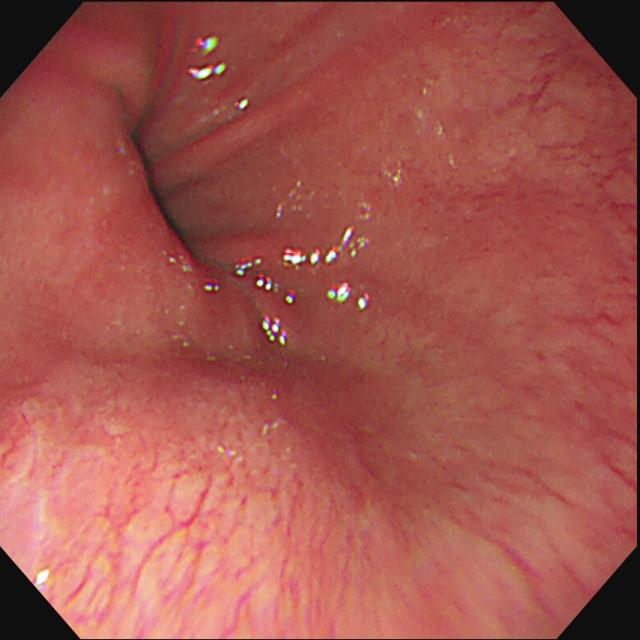I: (84, 90, 249, 290)
U: (282, 228, 369, 269), (233, 256, 296, 307), (186, 33, 230, 83), (326, 282, 370, 312), (260, 314, 292, 351), (31, 555, 55, 594), (202, 279, 219, 295)
